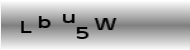5: (76, 25, 89, 40)
L: (19, 19, 32, 33)
W: (93, 16, 118, 30)
b: (37, 14, 52, 29)
u: (61, 13, 75, 23)
